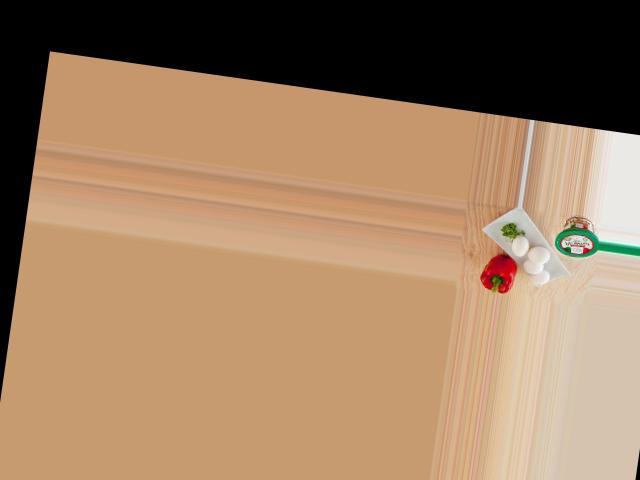bell_pepper: (476, 252, 524, 295)
